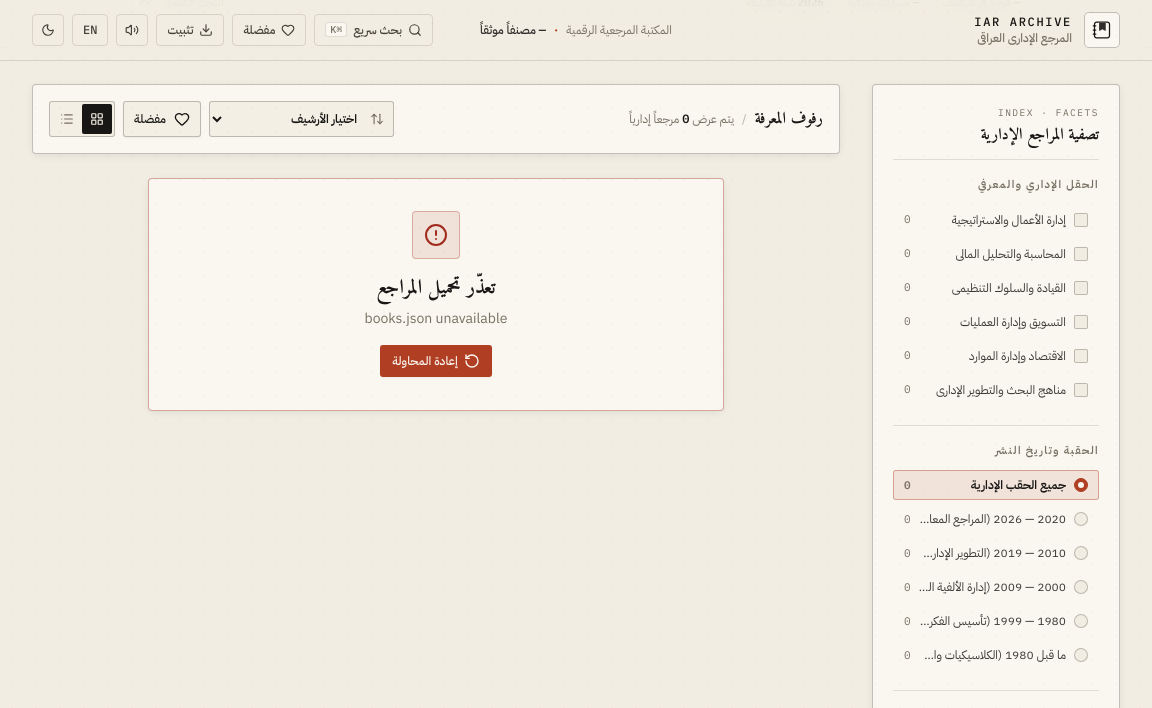
Test case: Phase 2.3A & 2.3B — Library UI, Reference Experience & Interactive Modals › displays catalog error state and recovers when Retry is clicked
(page scrolled)
Expected: the message "تعذّر تحميل المراجع books.json unavailable إعادة المحاولة" is shown, [148,178,724,411]
Click the button with test id "catalog-retry-btn". click: [436, 361]
box: [380,345,492,377]
(page scrolled)
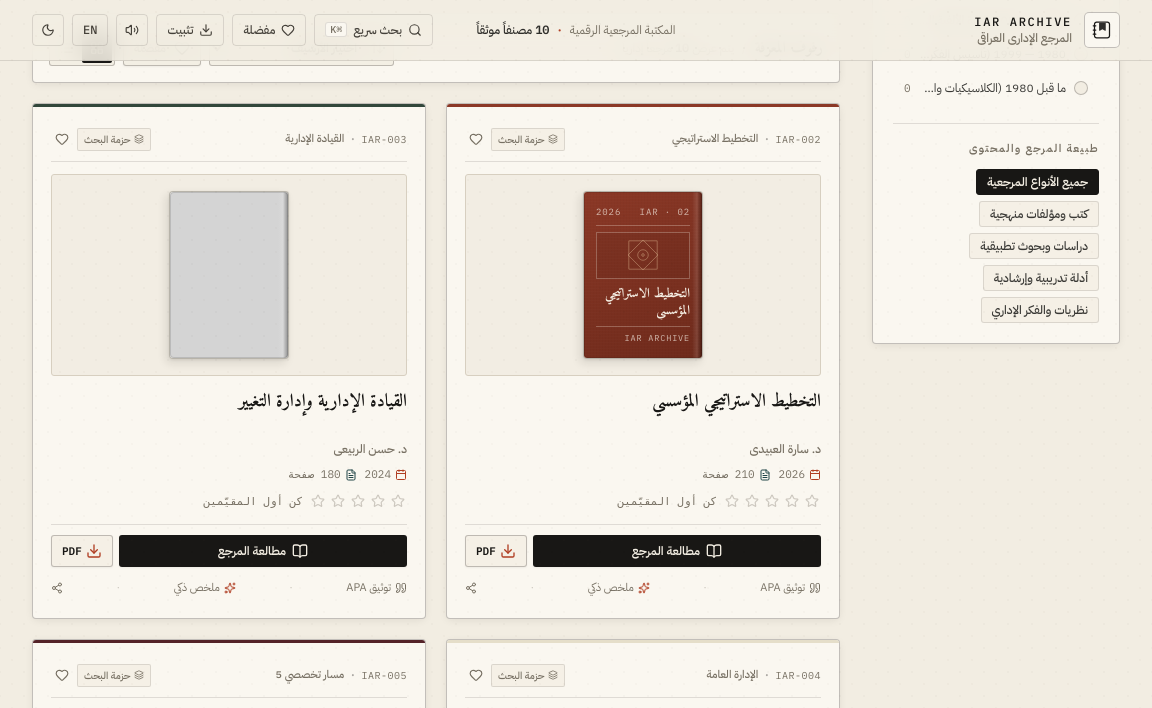
Now the element with test id "book-card-2" is shown, box [446,102,840,619]
